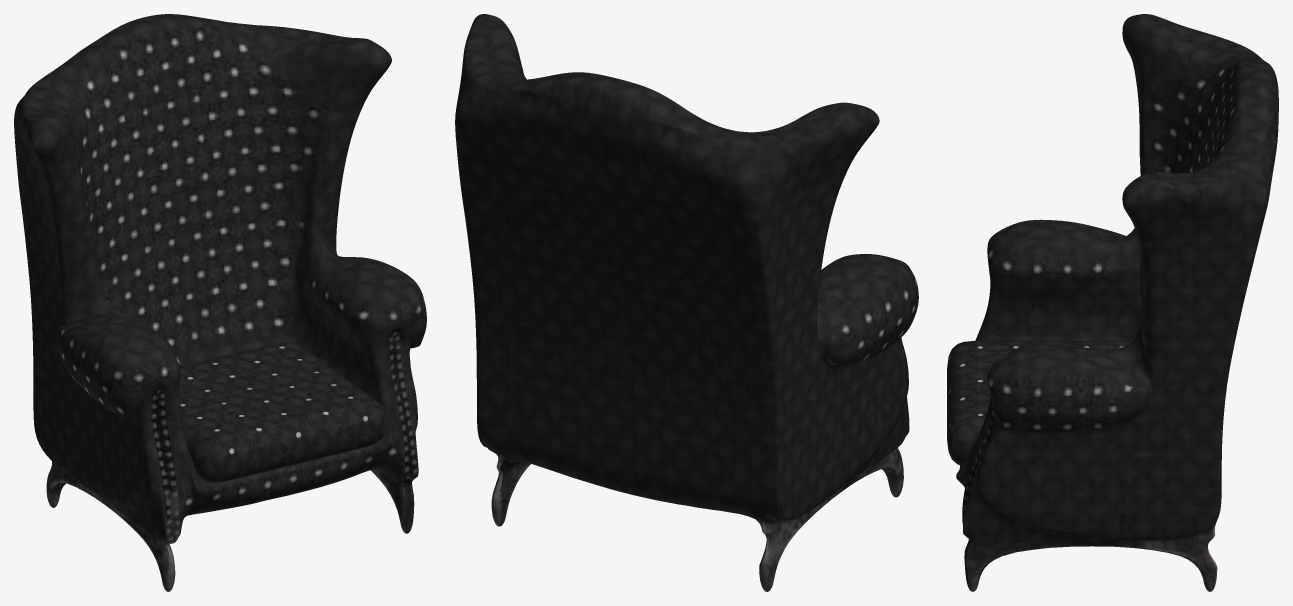
The model's file is chair-5.glb.
The picture shows the model from 3 angles, left to right: view 1: azimuth 30°, elevation 25°; view 2: azimuth 150°, elevation 25°; view 3: azimuth 270°, elevation 25°; orthographic projection. The views are drawn at different scales.
Visible parts, largest first — view 1: chair, cushion; view 2: chair; view 3: chair, cushion.
Part boxes in pixels (<box>): chair: <box>14,14,426,591</box>; cushion: <box>179,342,387,482</box>; chair: <box>455,14,918,591</box>; chair: <box>956,14,1278,591</box>; cushion: <box>947,341,1131,465</box>.
Bounding box in the file's own units: 9.05 × 10.68 × 7.03.
Materials: 3 (3 with a texture image).
